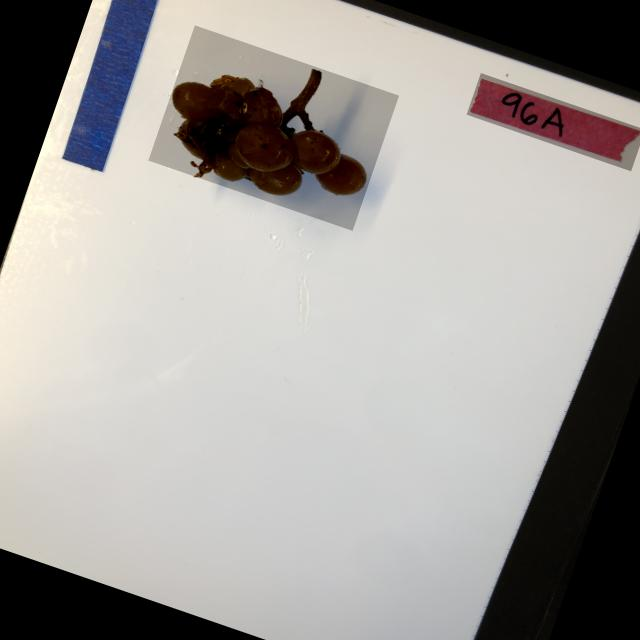grape_cluster: (148, 24, 398, 230)
index: (466, 73, 640, 171)
measure_label: (53, 0, 177, 176)
